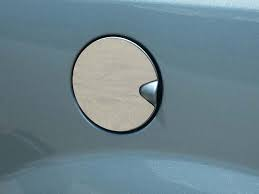closed: (66, 30, 172, 136)
